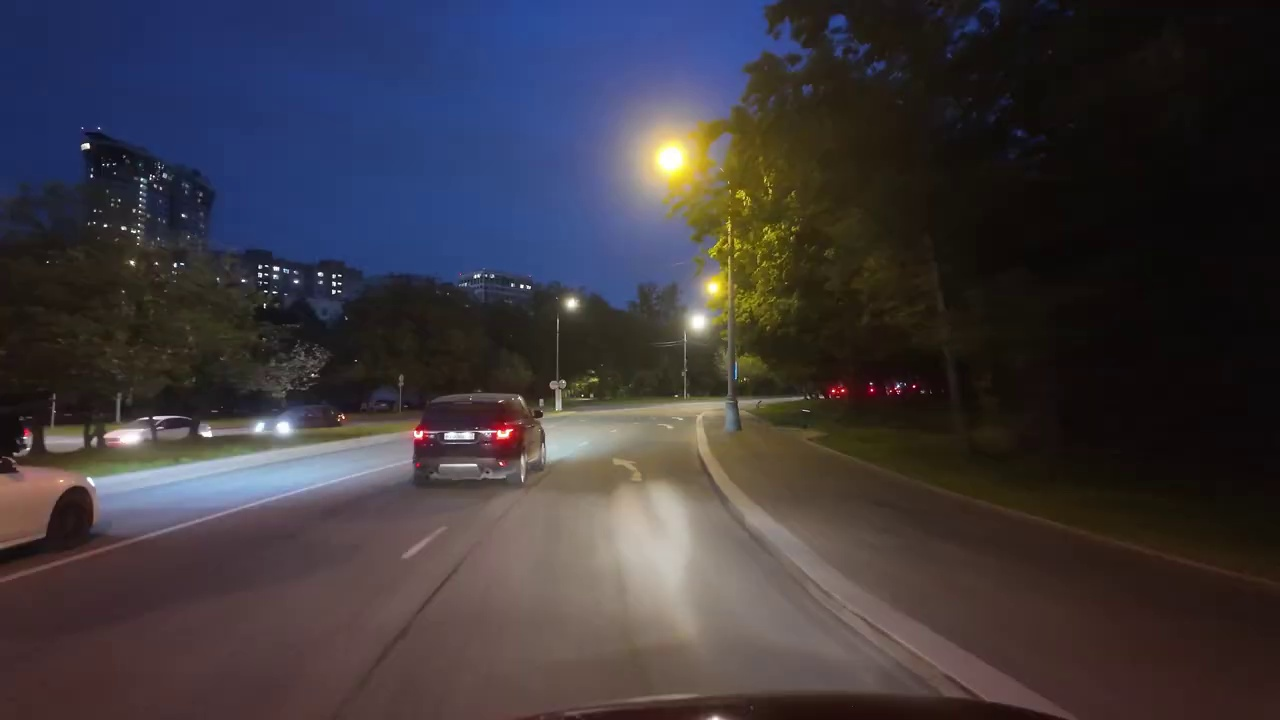acesa: (646, 133, 702, 187), (684, 311, 722, 337), (700, 270, 731, 301), (559, 292, 585, 317)
